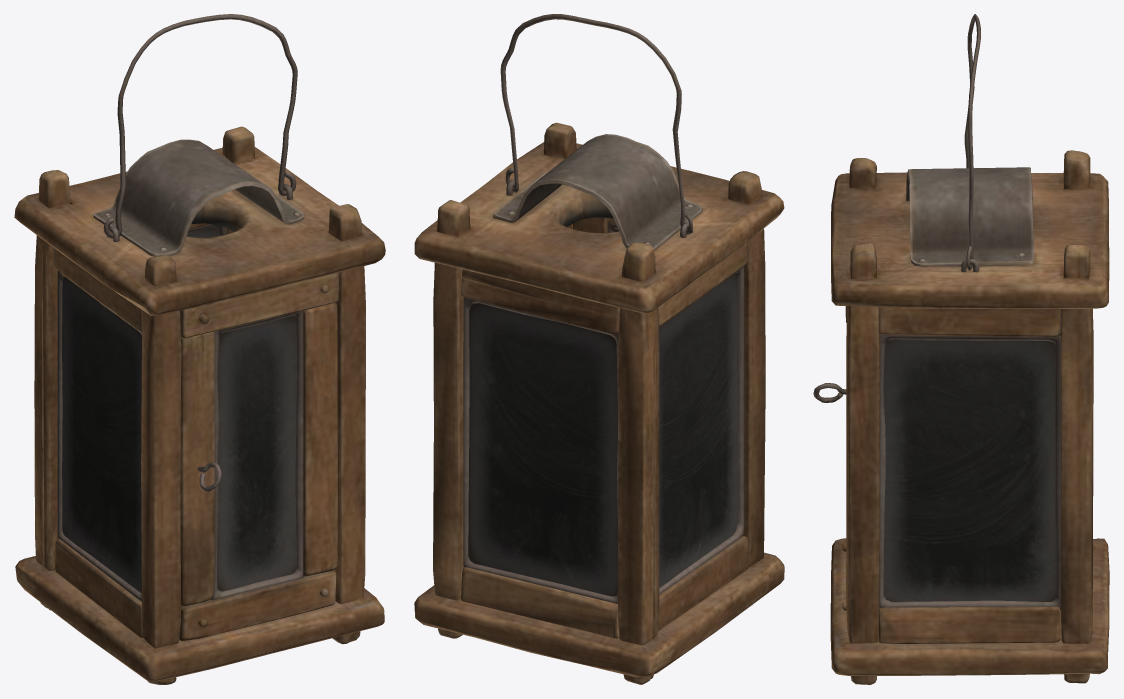
File: wooden_lantern_01.glb
3 renders of one model, left to right at view 1: azimuth 30°, elevation 25°; view 2: azimuth 150°, elevation 25°; view 3: azimuth 270°, elevation 25°, orthographic.
Parts seen in each view (by area): view 1: wooden_lantern_01, wooden_lantern_01_door, wooden_lantern_01_handle; view 2: wooden_lantern_01, wooden_lantern_01_handle, wooden_lantern_01_door; view 3: wooden_lantern_01, wooden_lantern_01_handle, wooden_lantern_01_door.
Boxes of the visible parts, bbox=[...] form: wooden_lantern_01: bbox=[14, 126, 385, 684]; wooden_lantern_01_door: bbox=[179, 272, 339, 641]; wooden_lantern_01_handle: bbox=[103, 14, 297, 238]; wooden_lantern_01: bbox=[414, 122, 784, 684]; wooden_lantern_01_handle: bbox=[500, 14, 692, 234]; wooden_lantern_01_door: bbox=[573, 217, 618, 233]; wooden_lantern_01: bbox=[830, 150, 1109, 684]; wooden_lantern_01_handle: bbox=[964, 14, 980, 270]; wooden_lantern_01_door: bbox=[813, 306, 847, 610].
Bounding box in the file's own units: 0.2211 × 0.5302 × 0.2347.
Materials: 2 (2 with a texture image).
